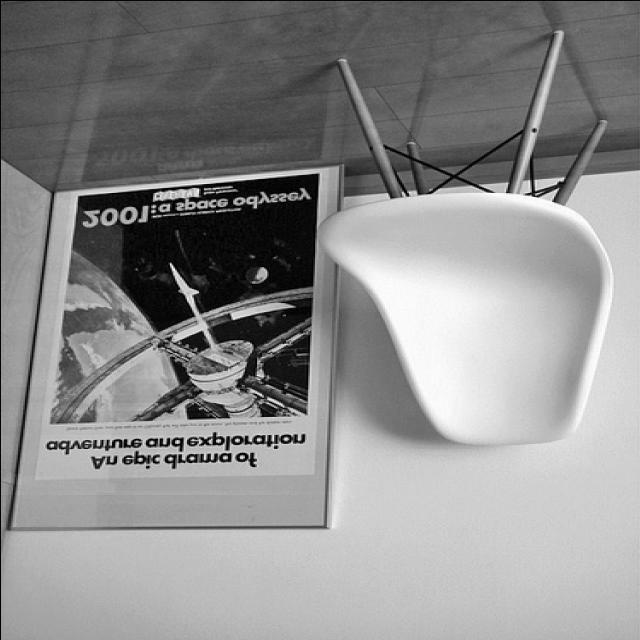chair: (316, 26, 621, 448)
